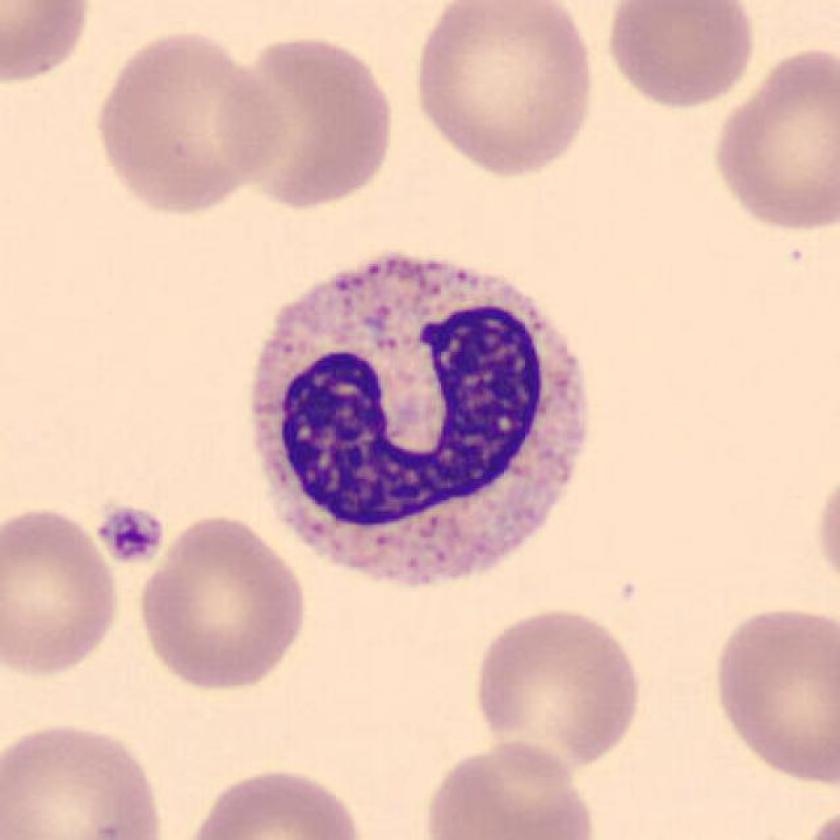neutrophil: (248, 258, 588, 588)
